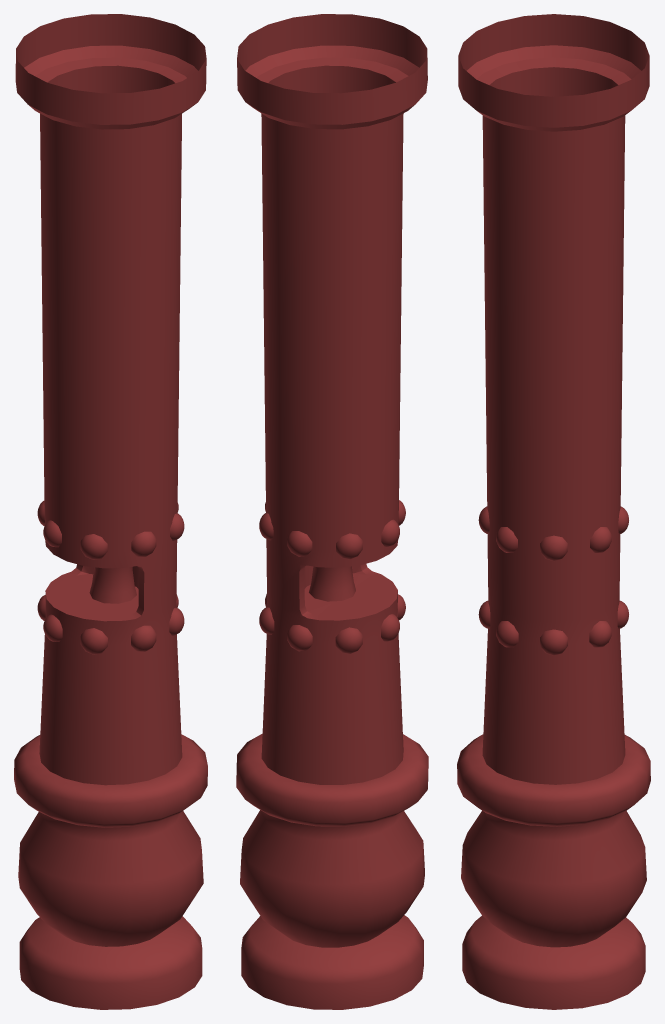
The model's file is mesh_ColumnaHacha.fbx.
3 renders of one model, left to right at view 1: azimuth 30°, elevation 25°; view 2: azimuth 150°, elevation 25°; view 3: azimuth 270°, elevation 25°, orthographic.
Visible parts, largest first — view 1: mesh_ColumnaHacha; view 2: mesh_ColumnaHacha; view 3: mesh_ColumnaHacha.
Boxes of the visible parts, x1,y1,x2,y2 form: mesh_ColumnaHacha: [14, 14, 207, 1009]; mesh_ColumnaHacha: [236, 14, 428, 1009]; mesh_ColumnaHacha: [457, 14, 650, 1009].
Size of the model in its own units: 770 by 4022 by 770.
